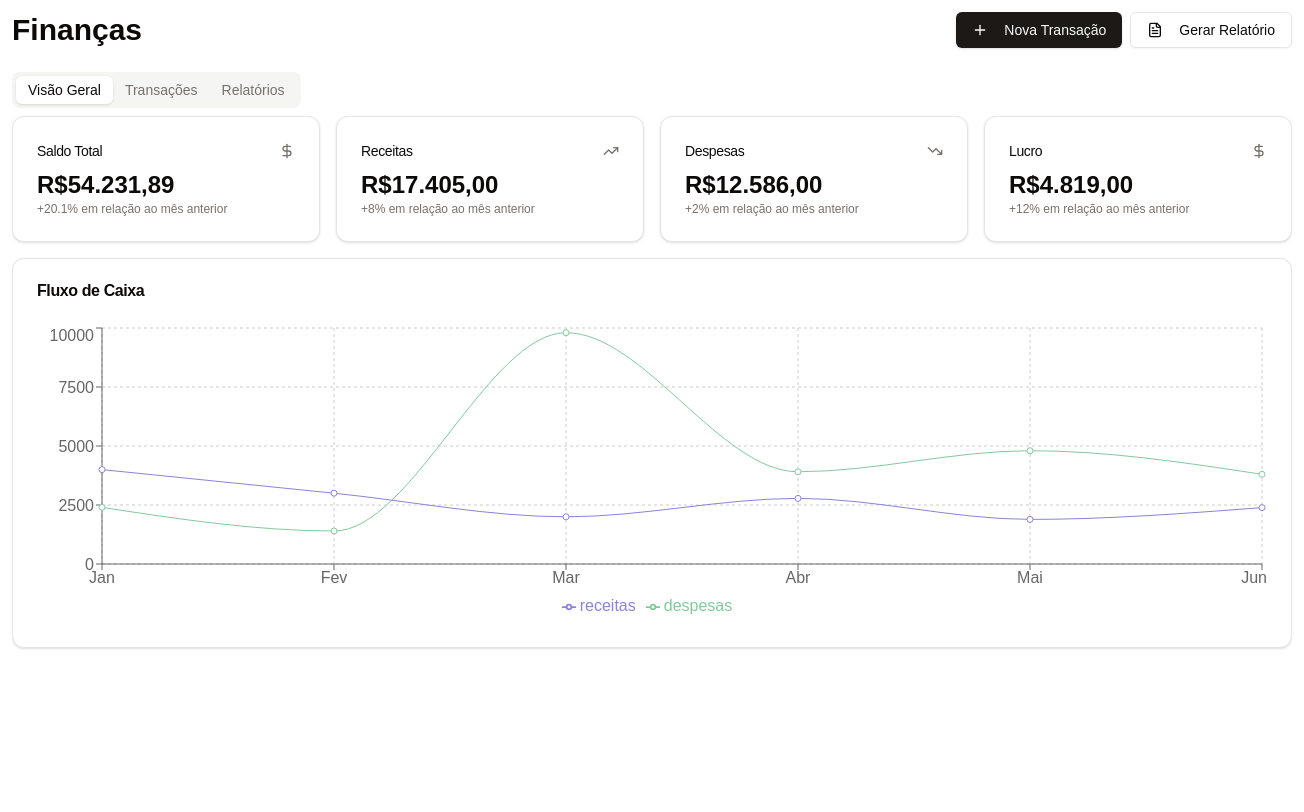
Finance Module › should display recent transactions
Click the tab "Transações".
click(162, 90)  # box [113,76,210,104]
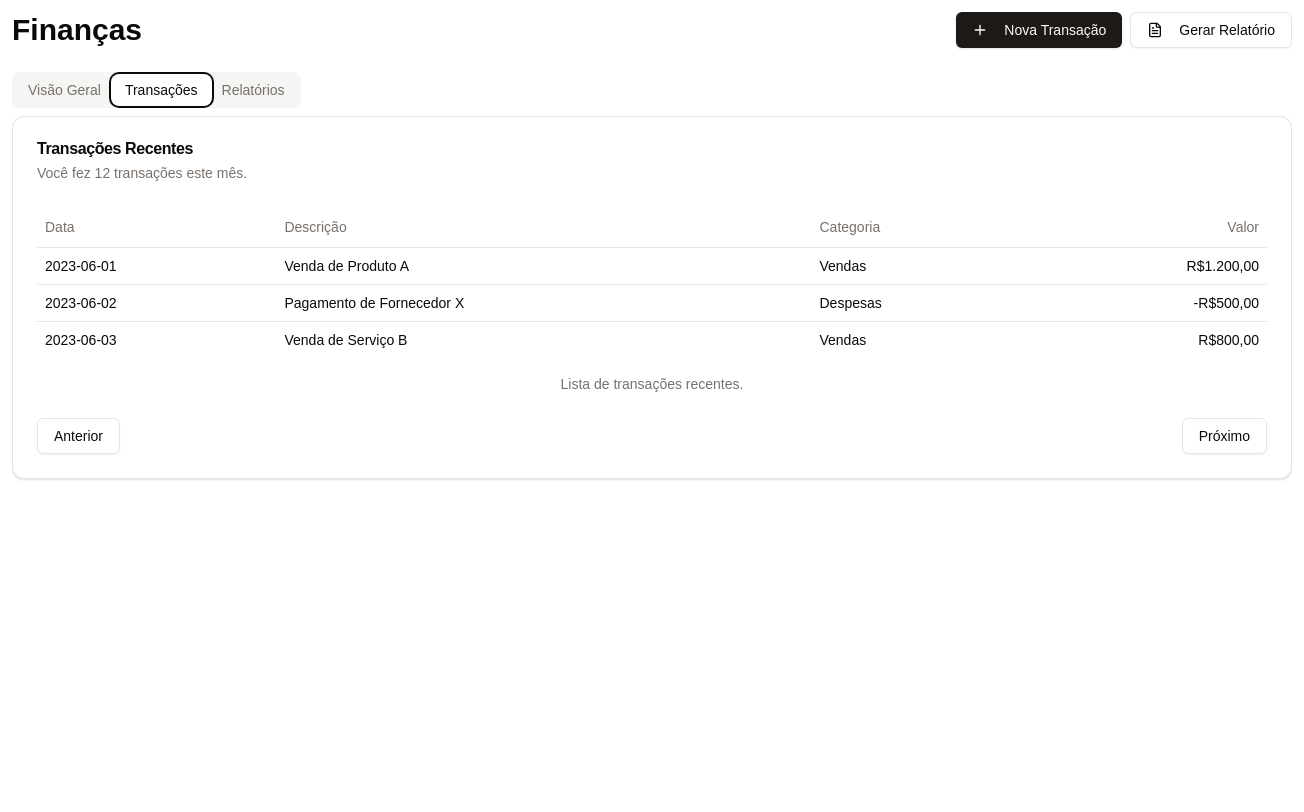
Result: the heading "Transações Recentes" is shown at [37,140,193,157]
Result: the number of rows is more than 0
Result: the text "Venda de Produto A" is shown at [276,247,812,284]
